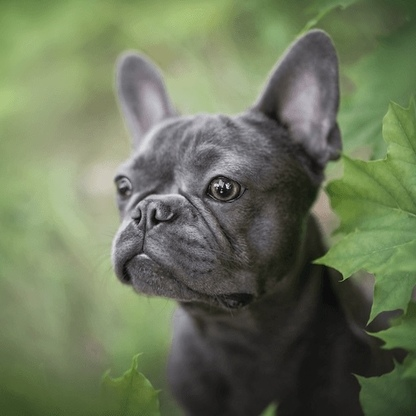bulldog: (97, 28, 392, 416)
